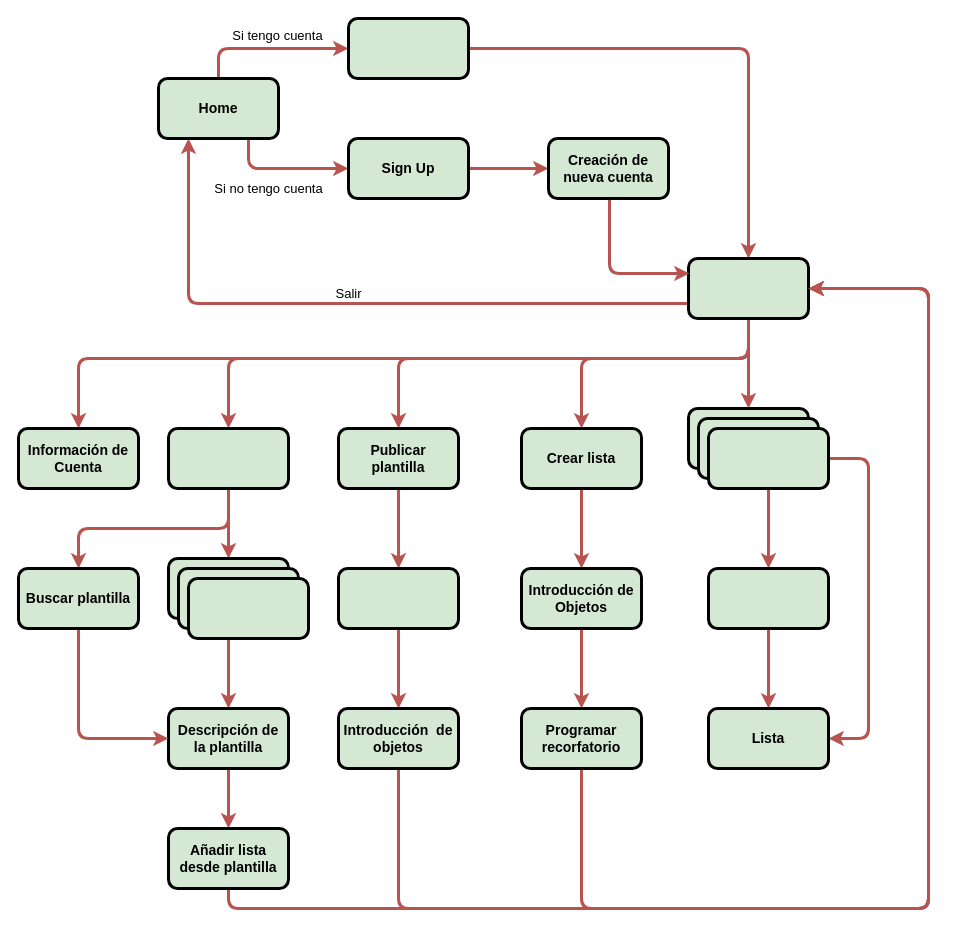
The diagram is 955 pixels wide and 935 high, and some of its shapes have lost their labels. Here are the shapes that lost their labels. From the top down, the centre of each, then its label:
At pixel 408 48: "Sign In".
At pixel 748 288: "Pantalla principal".
At pixel 228 458: "Explorar plantillas".
At pixel 768 458: "Mis listas".
At pixel 248 608: "Plantillas".
At pixel 398 598: "Introducción de información".
At pixel 768 598: "Buscar lista".
